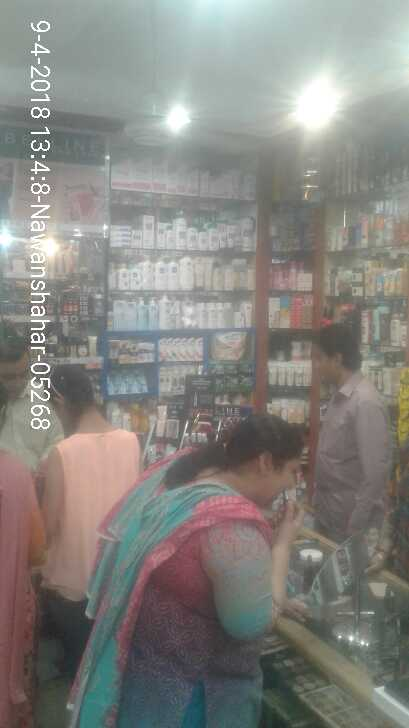venus: (135, 367, 145, 392), (110, 370, 120, 393), (123, 368, 132, 392)
